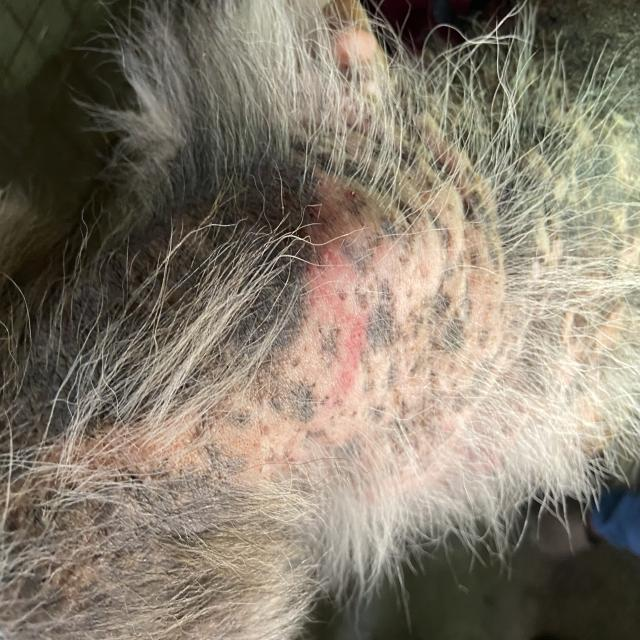demodicosis: (279, 168, 479, 444), (40, 410, 273, 503)
